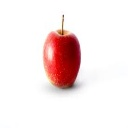apple: (42, 28, 81, 90)
